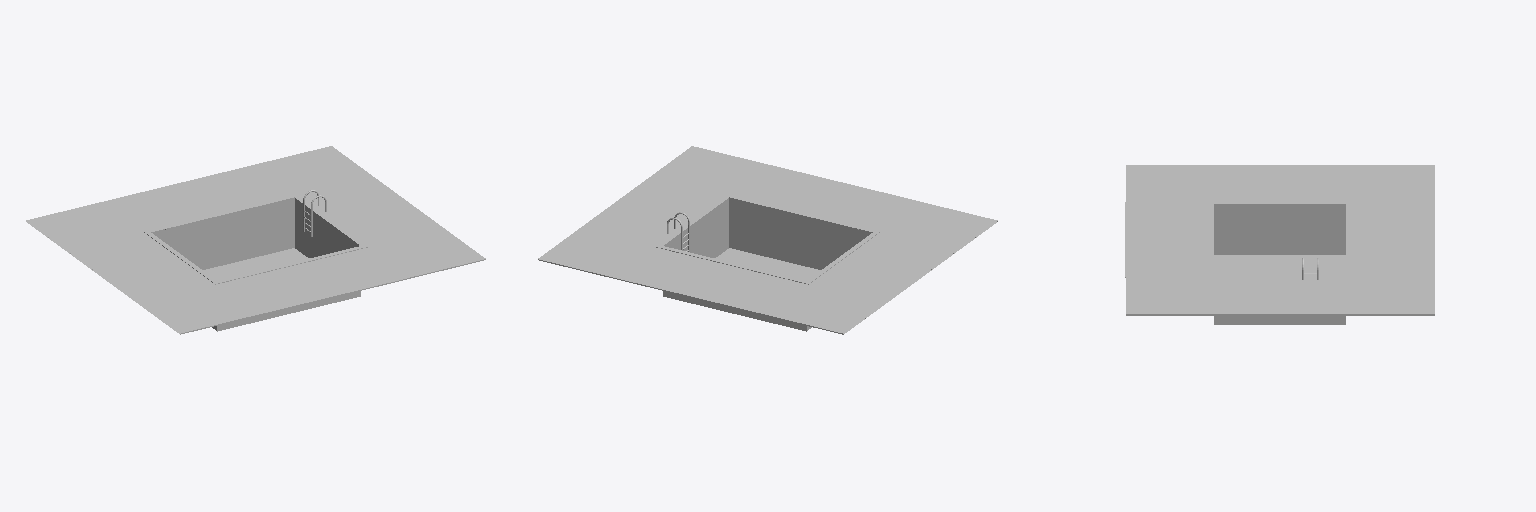
The model's file is pool.obj.
3 views of the same model, side by side, from view 1: azimuth 30°, elevation 25°; view 2: azimuth 150°, elevation 25°; view 3: azimuth 270°, elevation 25° (orthographic).
Visible parts, largest first — view 1: Plane_Plane.001, Pool_Plane; view 2: Plane_Plane.001, Pool_Plane; view 3: Plane_Plane.001, Pool_Plane.
Boxes of the visible parts, x1,y1,x2,y2 form: Plane_Plane.001: [26, 146, 485, 334]; Pool_Plane: [144, 194, 367, 331]; Plane_Plane.001: [538, 146, 997, 334]; Pool_Plane: [656, 194, 879, 331]; Plane_Plane.001: [1125, 165, 1434, 315]; Pool_Plane: [1208, 202, 1351, 324].
Size of the model in its own units: 128 by 27.05 by 112.